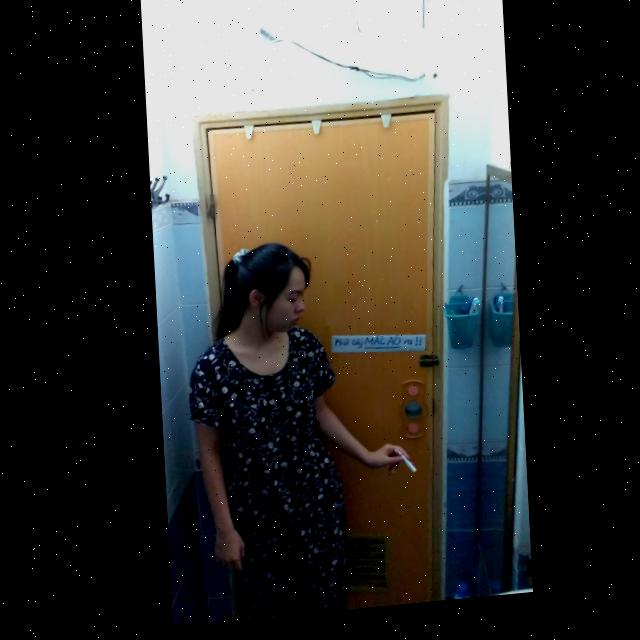cigarette: (389, 455, 411, 483)
